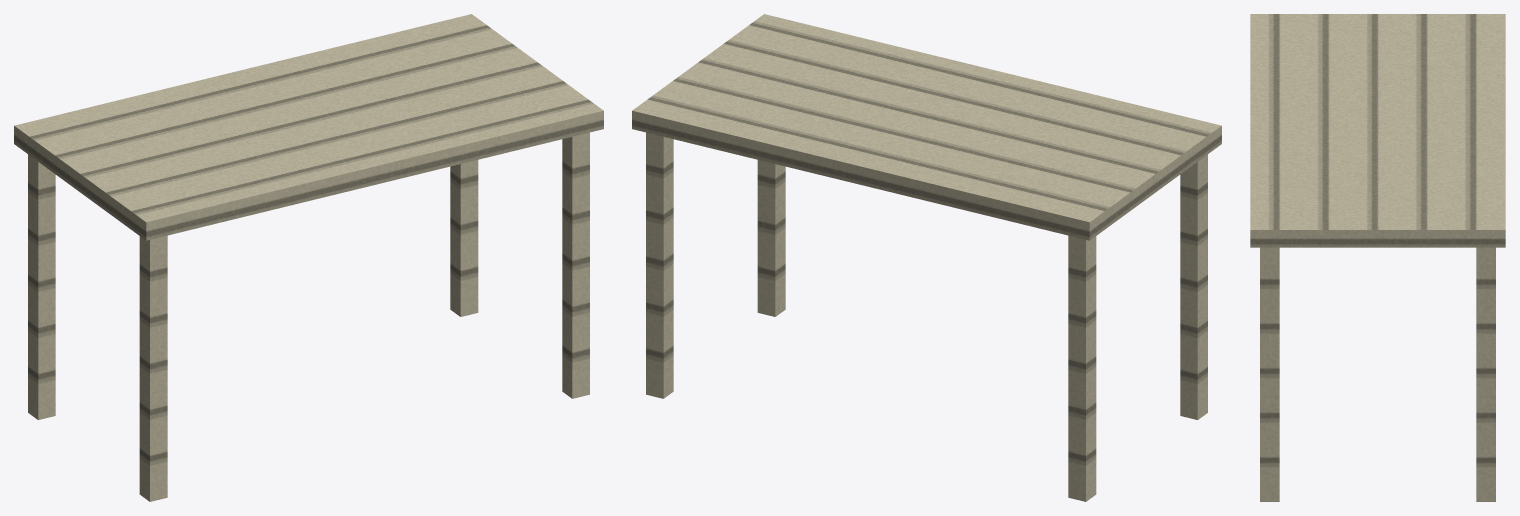
The model's file is teachers_desk.glb.
The picture shows the model from 3 angles, left to right: view 1: azimuth 30°, elevation 25°; view 2: azimuth 150°, elevation 25°; view 3: azimuth 270°, elevation 25°; orthographic projection. The views are drawn at different scales.
Visible parts, largest first — view 1: teachers_desk-col; view 2: teachers_desk-col; view 3: teachers_desk-col.
Boxes of the visible parts, <box> form: teachers_desk-col: <box>14,14,603,501</box>; teachers_desk-col: <box>632,14,1221,501</box>; teachers_desk-col: <box>1250,14,1505,501</box>.
Size of the model in its own units: 1.3 by 0.775 by 0.65.
Materials: 1 (1 with a texture image).
